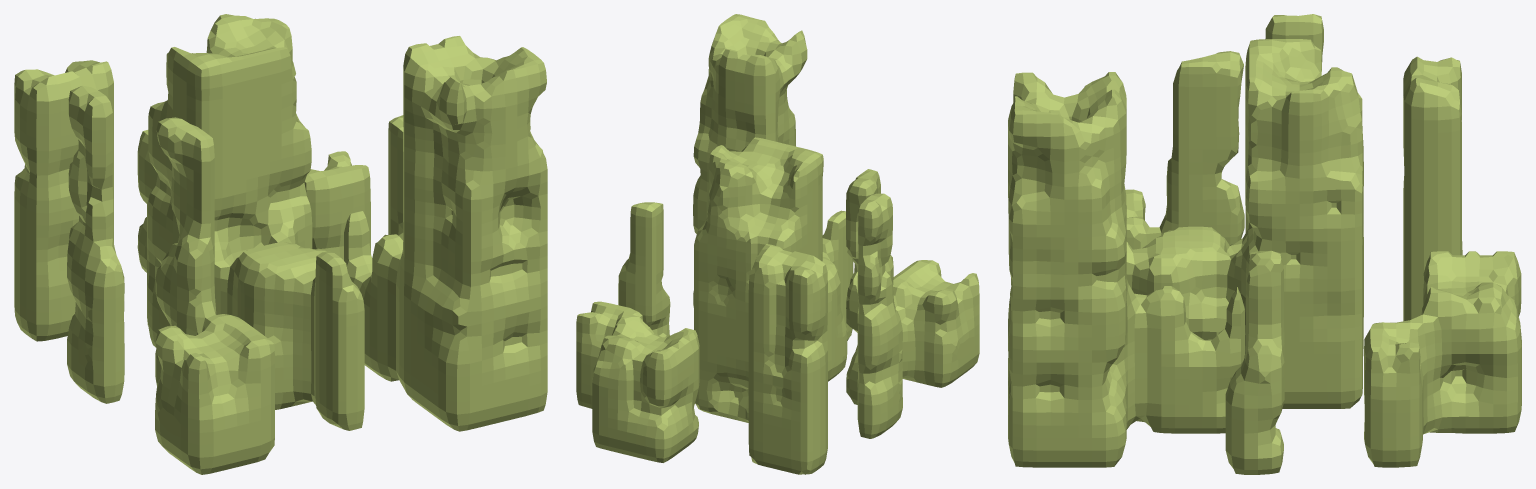
Rendered from coral_3.fbx.
3 renders of one model, left to right at view 1: azimuth 30°, elevation 25°; view 2: azimuth 150°, elevation 25°; view 3: azimuth 270°, elevation 25°, orthographic. The views are drawn at different scales.
Visible parts, largest first — view 1: coral 3; view 2: coral 3; view 3: coral 3.
Part boxes in pixels (left/top/right/bottom): coral 3: left=14, top=14, right=547, bottom=474; coral 3: left=576, top=14, right=979, bottom=474; coral 3: left=1008, top=14, right=1521, bottom=474.
Bounding box in the file's own units: 210 × 199 × 260.
